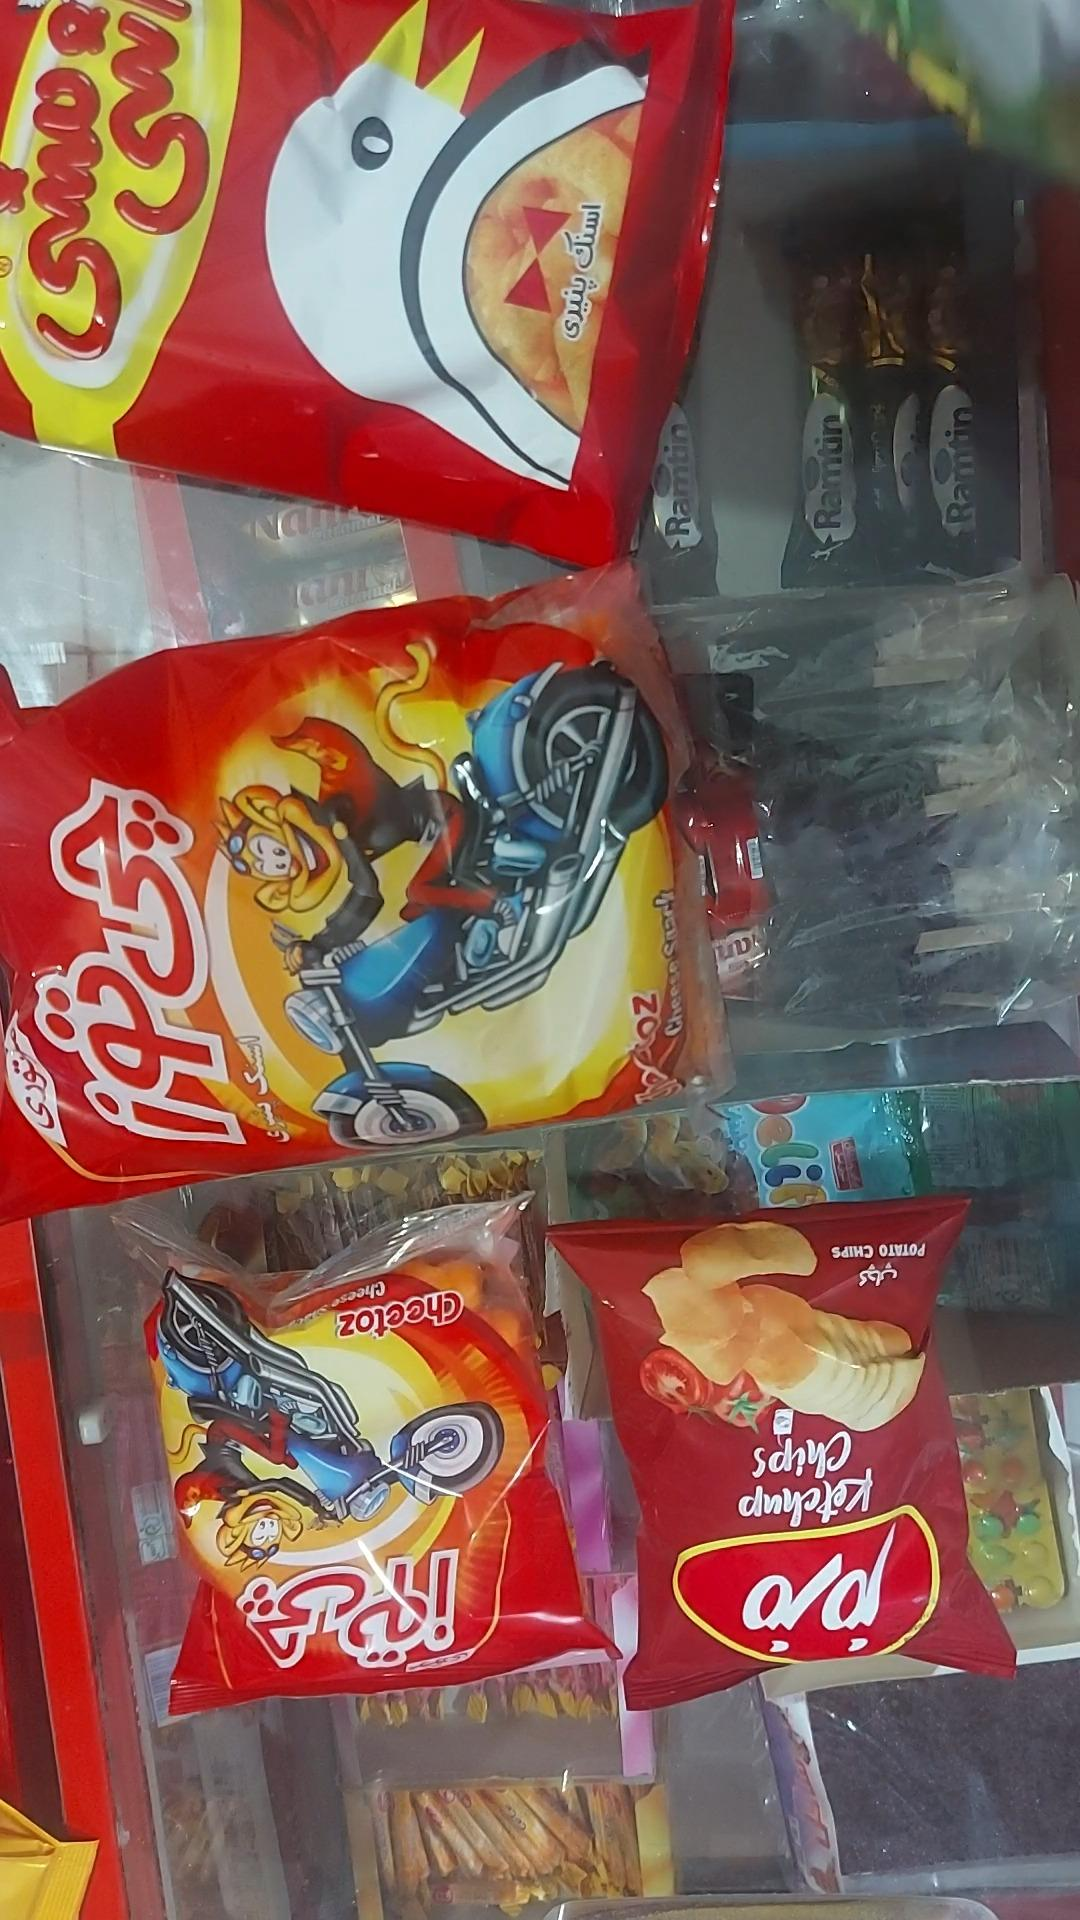Ashi Mashi snacks: (1, 0, 737, 564)
Cheetoz snack 30g: (116, 1183, 620, 1729)
Cheetoz snack 90g: (0, 559, 735, 1222)
Maz Maz ketchup chips: (545, 1191, 1025, 1713)
